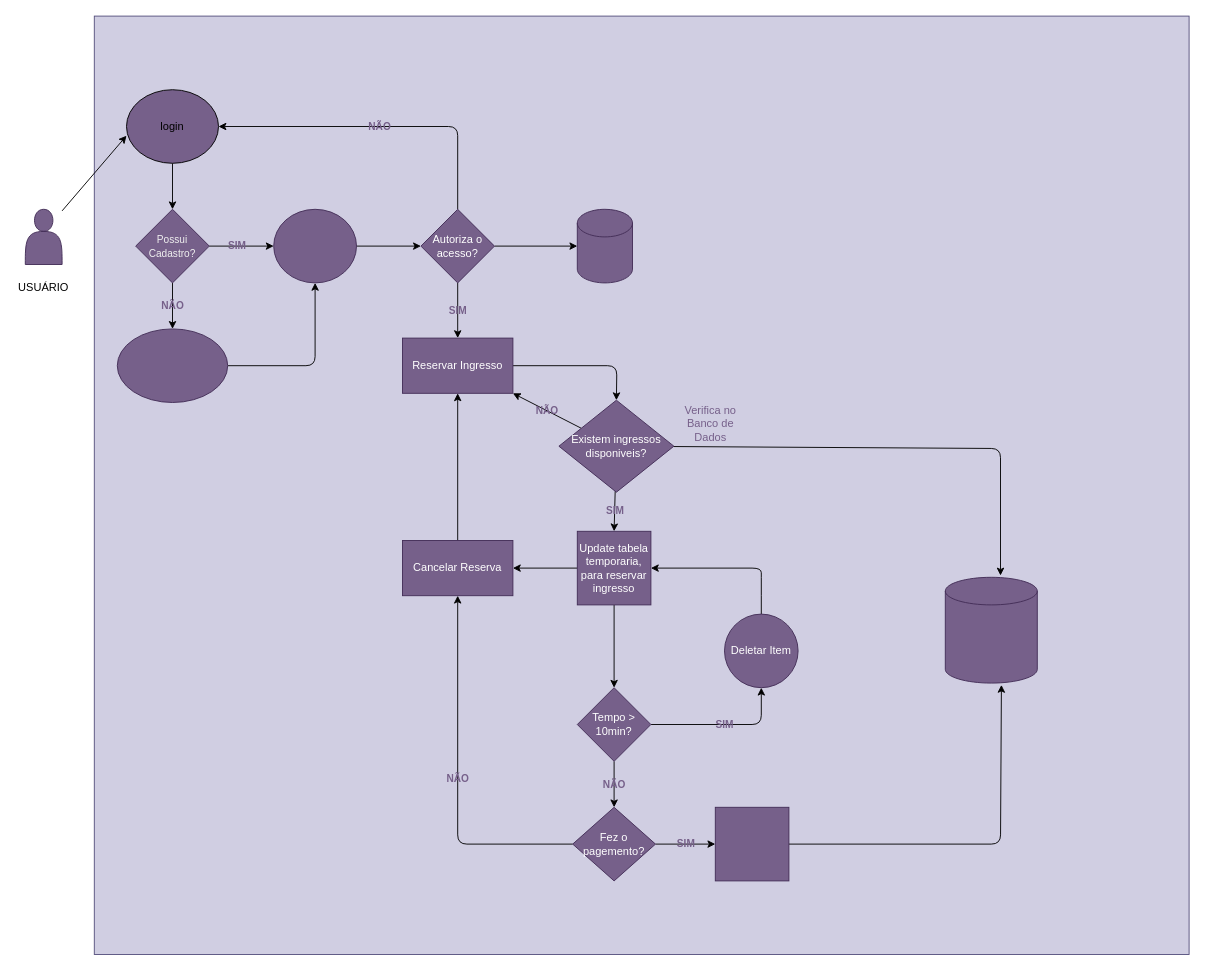
Some shapes in this 1205 by 971 pixel diagram are drawn without their labels. Here are the shapes that lost their labels. From the top down, the box of each, then its label:
(273, 208, 356, 283): username / password
(576, 208, 632, 283): db_acessos
(116, 328, 228, 402): Tela de Cadastro
(944, 576, 1037, 683): Gerenciamento de disponibilidade
(714, 806, 789, 881): Update tabela de ingressos geral
